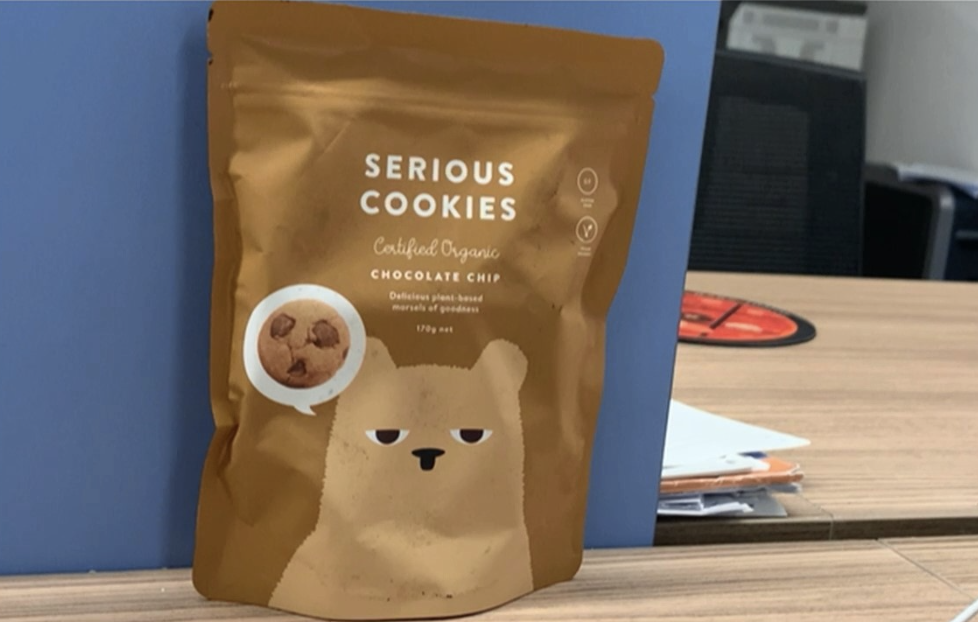cookies_150g: (256, 147, 600, 555)
